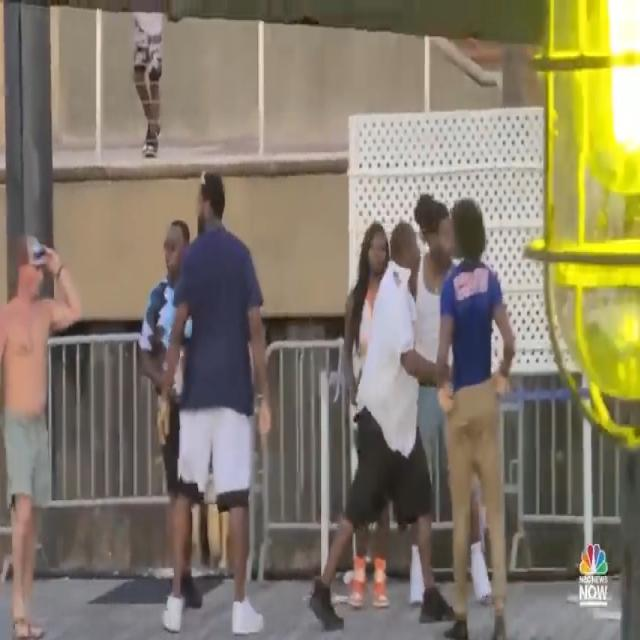non-fight: (302, 129, 527, 640), (124, 167, 286, 640), (0, 216, 90, 640)
